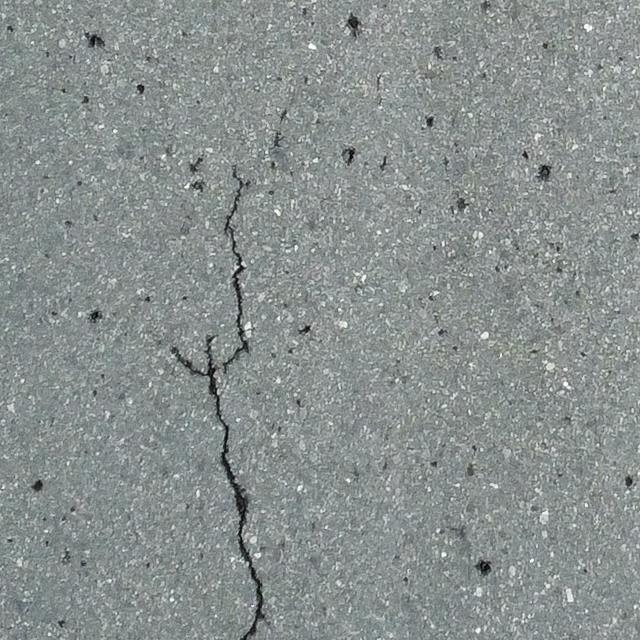LongitudinalCrack: (169, 164, 263, 639)
